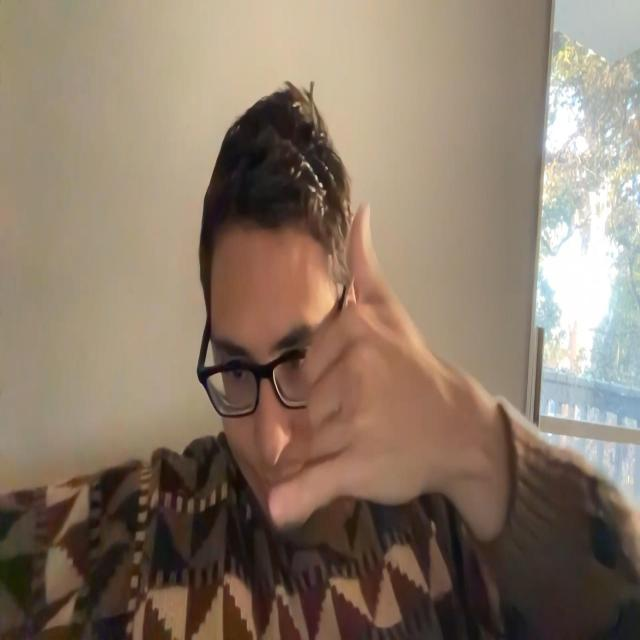face: (210, 259, 340, 527)
